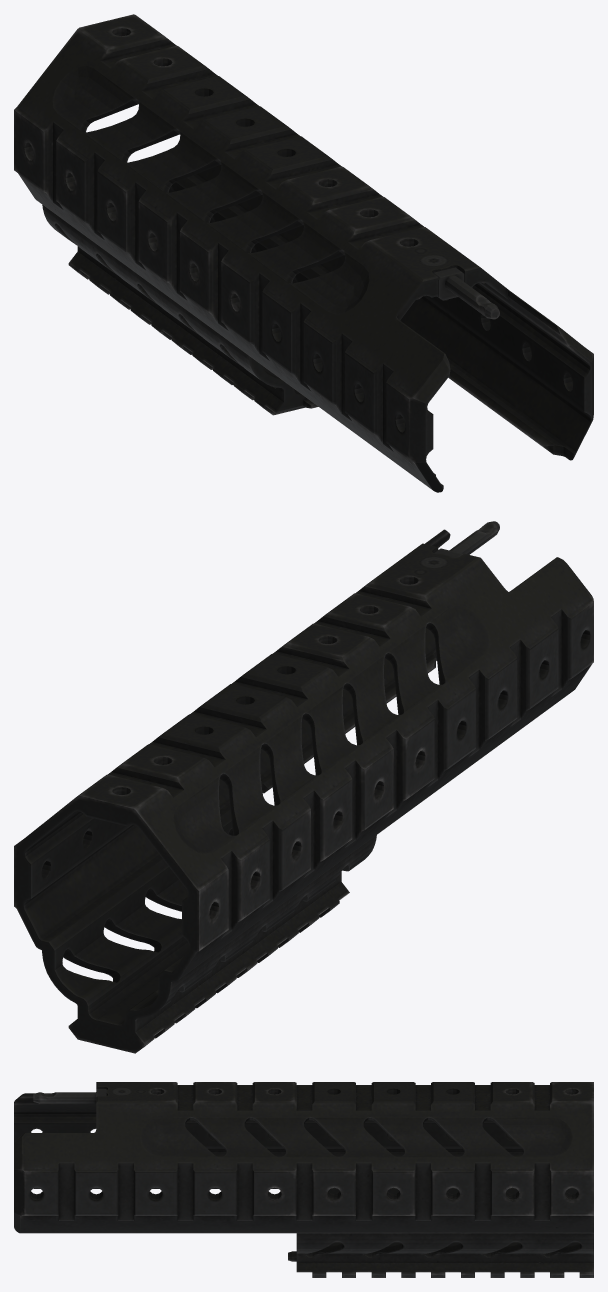
3 views of the same model, one above another, from view 1: azimuth 30°, elevation 25°; view 2: azimuth 150°, elevation 25°; view 3: azimuth 270°, elevation 25° (orthographic). The views are drawn at different scales.
Parts seen in each view (by area): view 1: TW_67614a0be889e1972605d6c0_PZ_Import; view 2: TW_67614a0be889e1972605d6c0_PZ_Import; view 3: TW_67614a0be889e1972605d6c0_PZ_Import.
Boxes of the visible parts, box(x1,y1,x2,y2) form: TW_67614a0be889e1972605d6c0_PZ_Import: box(14, 14, 593, 492); TW_67614a0be889e1972605d6c0_PZ_Import: box(14, 521, 593, 1053); TW_67614a0be889e1972605d6c0_PZ_Import: box(14, 1082, 593, 1277).
Size of the model in its own units: 0.03 by 0.1128 by 0.0378.
1 material, 1 textured.
